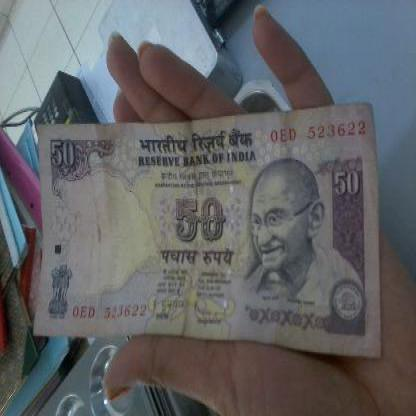Old50Front: (37, 117, 380, 336)
